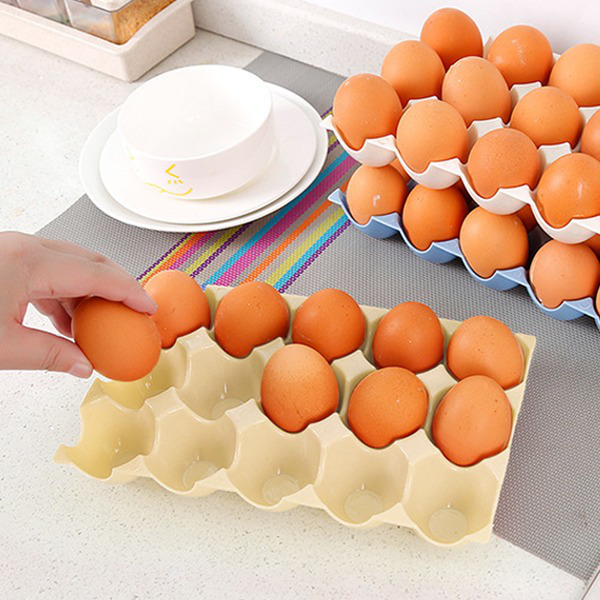egg: (331, 8, 600, 311), (142, 268, 524, 467), (68, 293, 161, 383)
